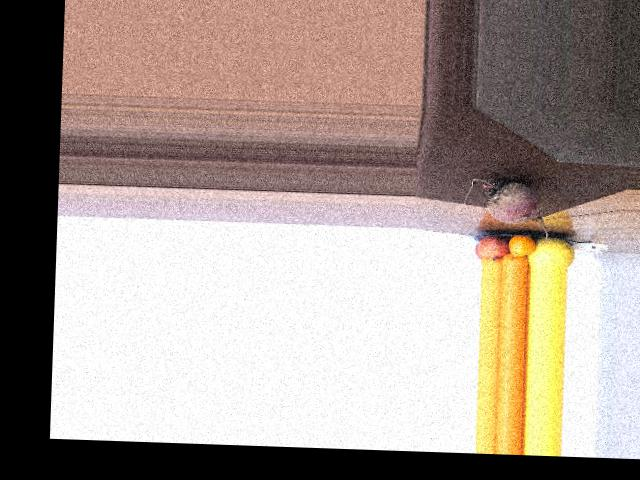beet: (463, 177, 550, 244)
